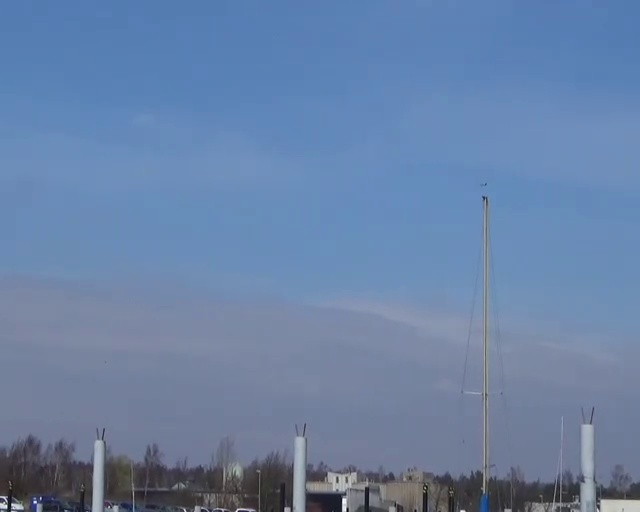BIRD: (99, 353, 112, 371)
